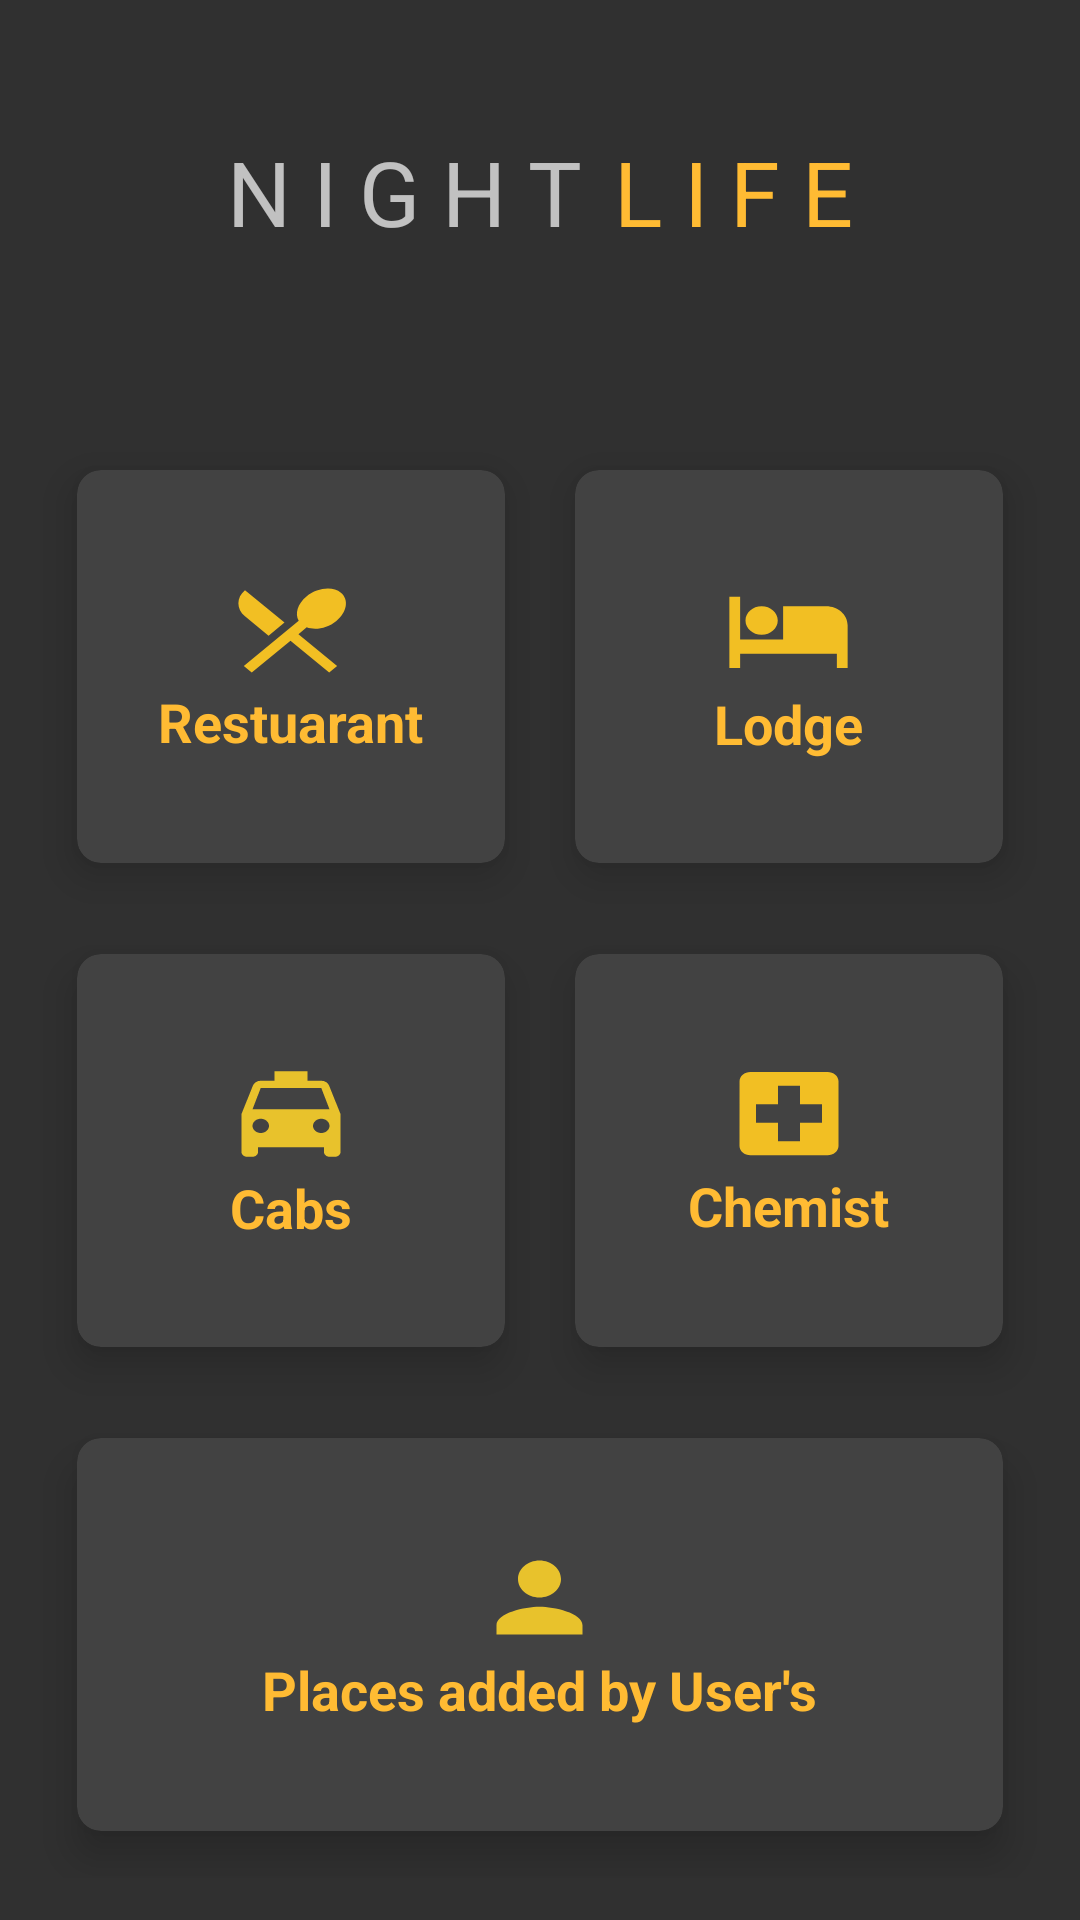

Icons on this 1080 x 1920 Android screen, each with its box as rect(x1, y1, x2, y2):
directions car: rect(241, 1071, 341, 1157)
hotel: rect(729, 596, 848, 668)
local hospital: rect(739, 1072, 839, 1156)
person: rect(496, 1560, 583, 1635)
